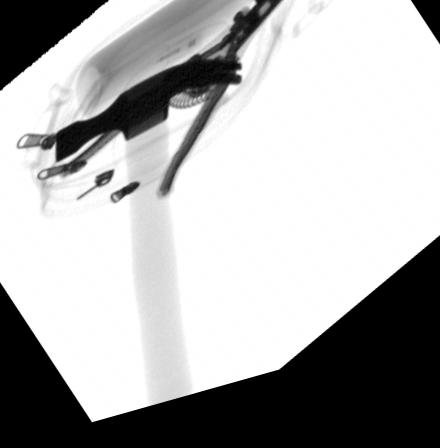Hammer: (53, 68, 243, 415)
Pliers: (58, 0, 285, 208)
